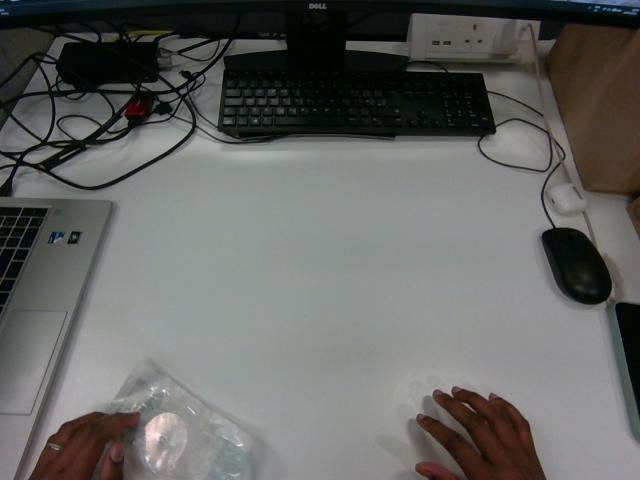gallipot: (110, 364, 250, 479)
